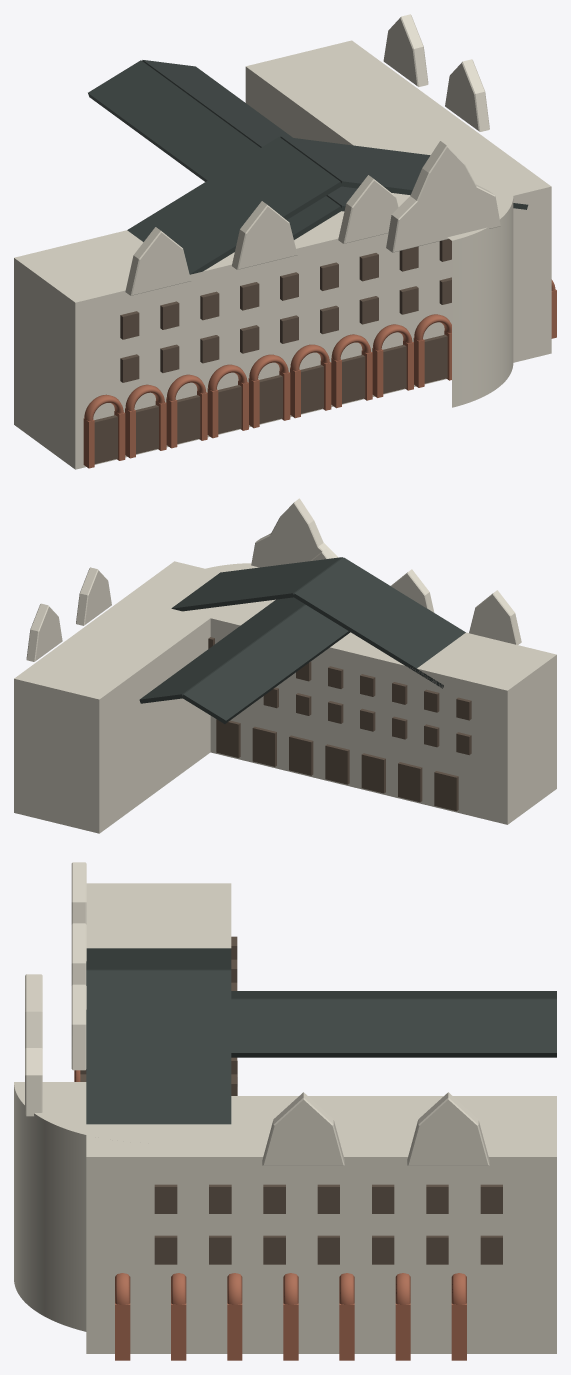
File: amber-mansions.glb
3 renders of one model, top to bottom at view 1: azimuth 30°, elevation 25°; view 2: azimuth 150°, elevation 25°; view 3: azimuth 270°, elevation 25°, orthographic. The views are drawn at different scales.
Parts seen in each view (by area): view 1: orchard-road-wing/form, penang-lane-wing/form, terracotta-roofs/orchard-roof-left, bowed-corner-block/bowed-corner, penang-roof/lane-roof-left, corner-dutch-gable/main-dutch-gable, terracotta-roofs/orchard-roof-right, penang-roof/lane-roof-right, repeated-dutch-gables/gable-orchard-1, repeated-dutch-gables/gable-orchard-0, repeated-dutch-gables/gable-orchard-2, repeated-dutch-gables/gable-penang-1 (+14 smaller); view 2: orchard-road-wing/form, penang-lane-wing/form, terracotta-roofs/orchard-roof-left, penang-roof/lane-roof-left, terracotta-roofs/orchard-roof-right, penang-roof/lane-roof-right, corner-dutch-gable/main-dutch-gable, repeated-dutch-gables/gable-orchard-0, repeated-dutch-gables/gable-penang-1, repeated-dutch-gables/gable-penang-0, bowed-corner-block/bowed-corner, rear-window-rhythm/rear-service-bay-4 (+7 smaller); view 3: penang-lane-wing/form, terracotta-roofs/orchard-roof-right, penang-roof/lane-roof-right, bowed-corner-block/bowed-corner, orchard-road-wing/form, repeated-dutch-gables/gable-penang-0, repeated-dutch-gables/gable-penang-1, terracotta-roofs/orchard-roof-left, penang-roof/lane-roof-left, corner-dutch-gable/main-dutch-gable, repeated-dutch-gables/gable-orchard-2, repeated-dutch-gables/gable-orchard-0 (+22 smaller).
Boxes of the visible parts, box(x1,y1,x2,y2) form: orchard-road-wing/form: box(14, 193, 447, 469); penang-lane-wing/form: box(245, 40, 551, 362); terracotta-roofs/orchard-roof-left: box(127, 137, 341, 274); bowed-corner-block/bowed-corner: box(394, 170, 513, 407); penang-roof/lane-roof-left: box(88, 60, 341, 239); corner-dutch-gable/main-dutch-gable: box(386, 141, 500, 252); terracotta-roofs/orchard-roof-right: box(280, 136, 528, 209); penang-roof/lane-roof-right: box(142, 60, 357, 211); repeated-dutch-gables/gable-orchard-1: box(232, 201, 297, 269); repeated-dutch-gables/gable-orchard-0: box(125, 227, 190, 295); repeated-dutch-gables/gable-orchard-2: box(338, 175, 398, 243); repeated-dutch-gables/gable-penang-1: box(383, 14, 428, 86); orchard-road-wing/form: box(208, 599, 556, 824); penang-lane-wing/form: box(14, 561, 223, 833); terracotta-roofs/orchard-roof-left: box(293, 557, 465, 688); penang-roof/lane-roof-left: box(182, 605, 350, 723); terracotta-roofs/orchard-roof-right: box(171, 557, 342, 611); penang-roof/lane-roof-right: box(139, 597, 305, 703); corner-dutch-gable/main-dutch-gable: box(251, 498, 338, 567); repeated-dutch-gables/gable-orchard-0: box(469, 590, 521, 644); repeated-dutch-gables/gable-penang-1: box(26, 603, 62, 661); repeated-dutch-gables/gable-penang-0: box(76, 567, 111, 625); bowed-corner-block/bowed-corner: box(169, 563, 258, 604); rear-window-rhythm/rear-service-bay-4: box(325, 744, 349, 784); penang-lane-wing/form: box(86, 1096, 556, 1353); terracotta-roofs/orchard-roof-right: box(86, 970, 231, 1124); penang-roof/lane-roof-right: box(231, 999, 556, 1057); bowed-corner-block/bowed-corner: box(14, 1082, 158, 1331); orchard-road-wing/form: box(86, 883, 231, 948); repeated-dutch-gables/gable-penang-0: box(262, 1092, 344, 1165); repeated-dutch-gables/gable-penang-1: box(407, 1092, 489, 1165); terracotta-roofs/orchard-roof-left: box(86, 948, 231, 970); penang-roof/lane-roof-left: box(231, 991, 556, 999); corner-dutch-gable/main-dutch-gable: box(25, 974, 42, 1116); repeated-dutch-gables/gable-orchard-2: box(71, 984, 86, 1070); repeated-dutch-gables/gable-orchard-0: box(71, 862, 86, 924).
Bounding box in the file's own units: 18.57 × 9.29 × 15.
